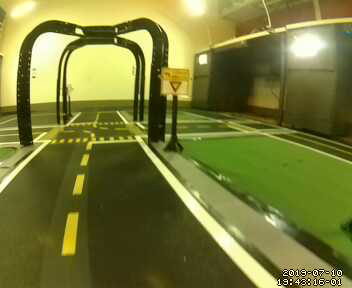Turn Yield: (160, 68, 190, 97)
